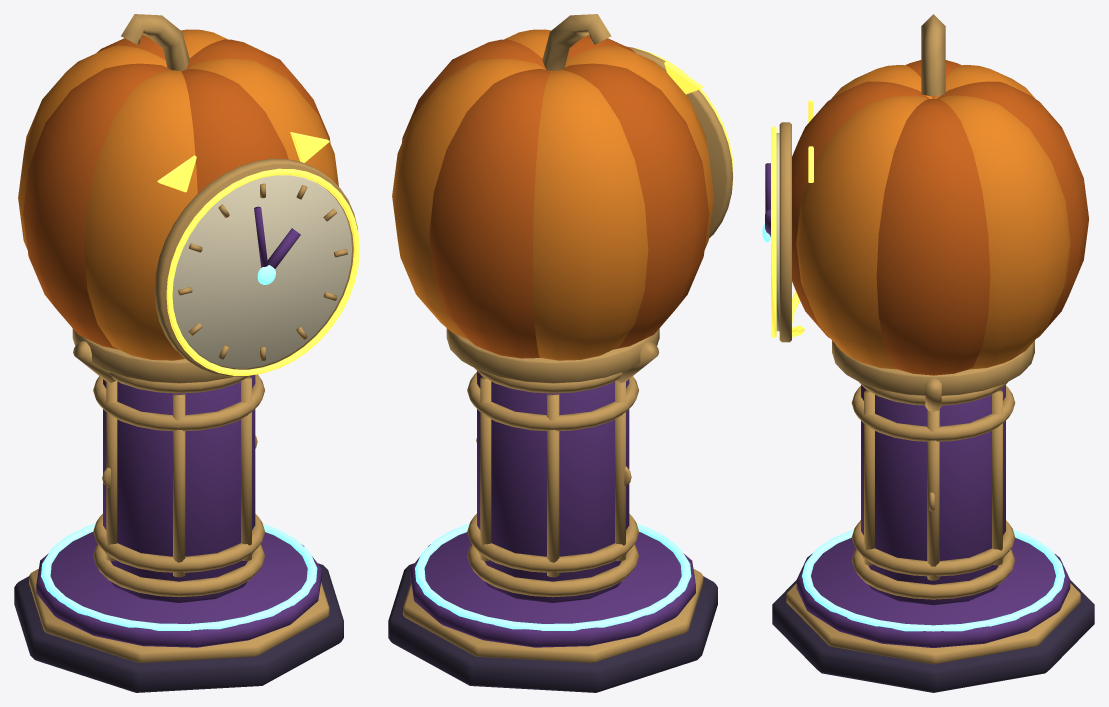
Rendered from A058-A01-PumpkinClockTower-runtime-host.glb.
3 views of the same model, side by side, from view 1: azimuth 30°, elevation 25°; view 2: azimuth 150°, elevation 25°; view 3: azimuth 270°, elevation 25° (orthographic). The views are drawn at different scales.
Visible parts, largest first — view 1: A01_ClockDial, A01_PumpkinLobe_01, A01_Column, A01_PumpkinLobe_00, A01_PurpleBase, A01_OctagonalPlinth, A01_PumpkinLobe_02, A01_PumpkinLobe_03, A01_BrassStep, A01_ClockBezel, Glow_A01_ClockHalo, Glow_A01_BaseRing (+16 smaller); view 2: A01_PumpkinLobe_07, A01_PumpkinLobe_06, A01_Column, A01_PumpkinLobe_00, A01_PurpleBase, A01_OctagonalPlinth, A01_PumpkinLobe_05, A01_BrassStep, A01_HeadSupport, Glow_A01_BaseRing, A01_PumpkinLobe_01, A01_ColumnBrassCollar (+12 smaller); view 3: A01_PumpkinLobe_04, A01_PumpkinLobe_05, A01_PumpkinLobe_03, A01_Column, A01_PurpleBase, A01_OctagonalPlinth, A01_PumpkinLobe_06, A01_BrassStep, A01_PumpkinLobe_02, A01_HeadSupport, Glow_A01_BaseRing, A01_ClockBezel (+13 smaller).
Part boxes in pixels (x1=…): A01_ClockDial: x1=172, y1=175, x2=351, y2=368; A01_PumpkinLobe_01: x1=84, y1=70, x2=197, y2=360; A01_Column: x1=103, y1=375, x2=255, y2=602; A01_PumpkinLobe_00: x1=23, y1=63, x2=170, y2=349; A01_PurpleBase: x1=36, y1=532, x2=321, y2=647; A01_OctagonalPlinth: x1=14, y1=563, x2=343, y2=692; A01_PumpkinLobe_02: x1=181, y1=69, x2=288, y2=193; A01_PumpkinLobe_03: x1=186, y1=58, x2=338, y2=186; A01_BrassStep: x1=29, y1=568, x2=329, y2=662; A01_ClockBezel: x1=154, y1=158, x2=357, y2=376; Glow_A01_ClockHalo: x1=166, y1=168, x2=359, y2=375; Glow_A01_BaseRing: x1=41, y1=524, x2=317, y2=630; A01_PumpkinLobe_07: x1=532, y1=70, x2=648, y2=360; A01_PumpkinLobe_06: x1=429, y1=69, x2=550, y2=358; A01_Column: x1=477, y1=371, x2=629, y2=602; A01_PumpkinLobe_00: x1=562, y1=63, x2=709, y2=349; A01_PurpleBase: x1=410, y1=532, x2=695, y2=647; A01_OctagonalPlinth: x1=388, y1=563, x2=717, y2=692; A01_PumpkinLobe_05: x1=392, y1=58, x2=545, y2=338; A01_BrassStep: x1=403, y1=568, x2=703, y2=662; A01_HeadSupport: x1=446, y1=328, x2=659, y2=383; Glow_A01_BaseRing: x1=415, y1=524, x2=691, y2=630; A01_PumpkinLobe_01: x1=565, y1=45, x2=714, y2=249; A01_ColumnBrassCollar: x1=467, y1=544, x2=638, y2=597; A01_PumpkinLobe_04: x1=876, y1=98, x2=990, y2=375; A01_PumpkinLobe_05: x1=939, y1=95, x2=1070, y2=369; A01_PumpkinLobe_03: x1=796, y1=95, x2=927, y2=369; A01_Column: x1=861, y1=385, x2=1005, y2=605; A01_PurpleBase: x1=796, y1=538, x2=1070, y2=647; A01_OctagonalPlinth: x1=772, y1=580, x2=1094, y2=692; A01_PumpkinLobe_06: x1=937, y1=81, x2=1088, y2=337; A01_BrassStep: x1=786, y1=583, x2=1080, y2=664; A01_PumpkinLobe_02: x1=792, y1=81, x2=929, y2=337; A01_HeadSupport: x1=832, y1=340, x2=1034, y2=395; Glow_A01_BaseRing: x1=802, y1=529, x2=1064, y2=631; A01_ClockBezel: x1=779, y1=122, x2=791, y2=342.
Bounding box in the file's own units: 0.4943 × 1 × 0.5096.
